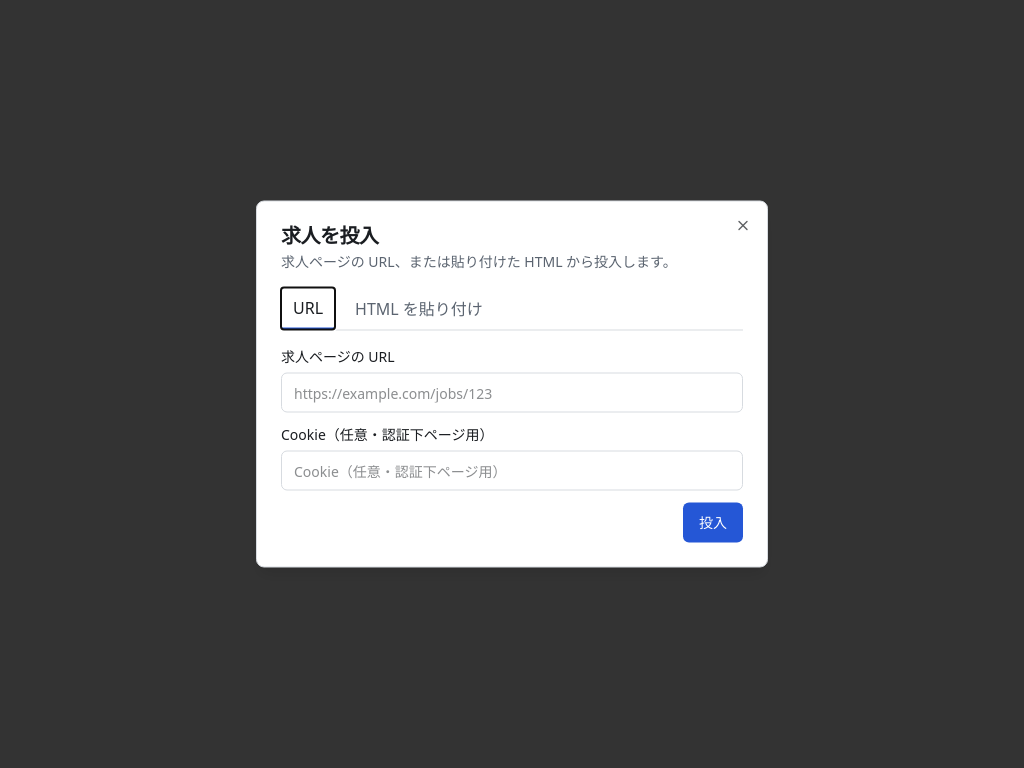
Test case: AddJobModal（求人投入モーダル） › HTML タブへ切替で textarea を表示し URL 入力は隠す（排他）
Click the tab with test id "add-job-tab-html".
click(419, 308)  # box [343,288,495,330]
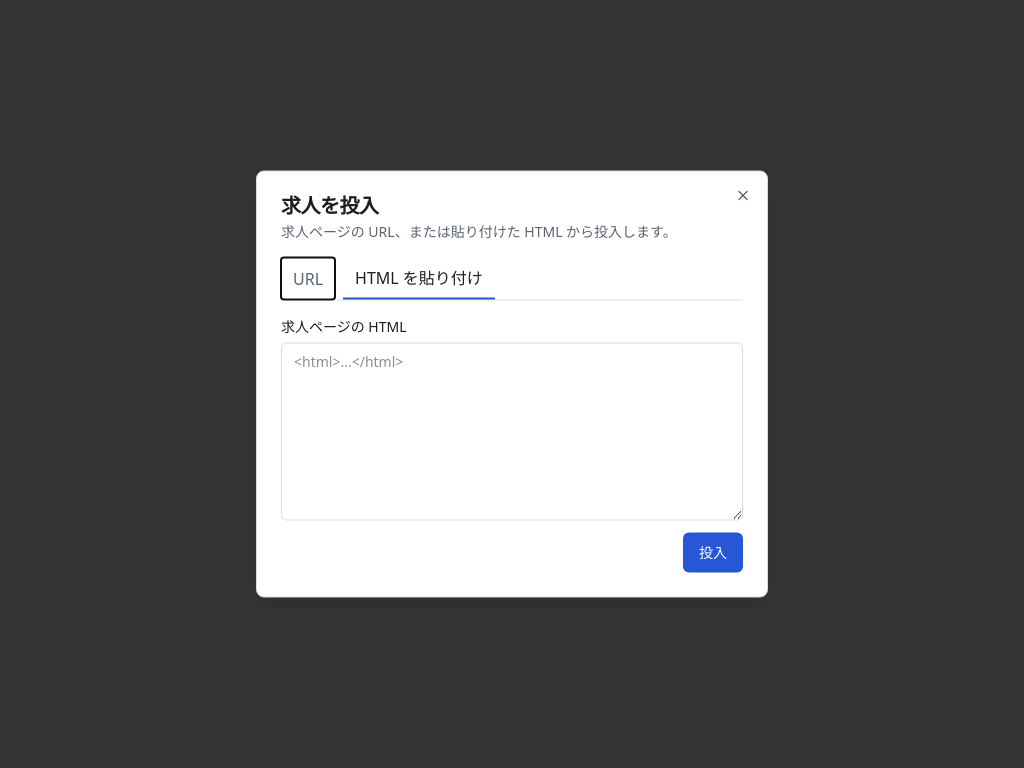
Expected: the text box with test id "add-job-html-input" is shown, [281,342,743,520]
Expected: the field with test id "add-job-url-input" is gone
